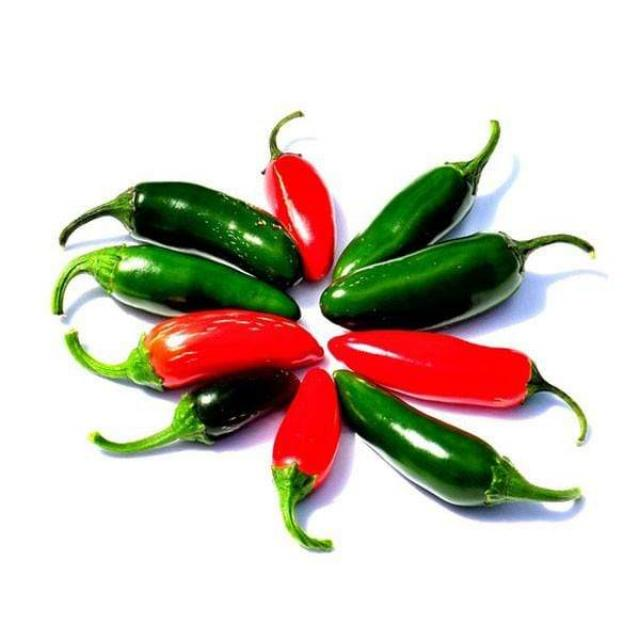aji: (116, 174, 303, 288), (113, 239, 305, 331), (343, 372, 483, 498), (137, 296, 340, 381), (340, 321, 527, 404), (332, 156, 465, 258), (343, 261, 545, 323), (190, 375, 308, 448), (291, 375, 349, 497)
